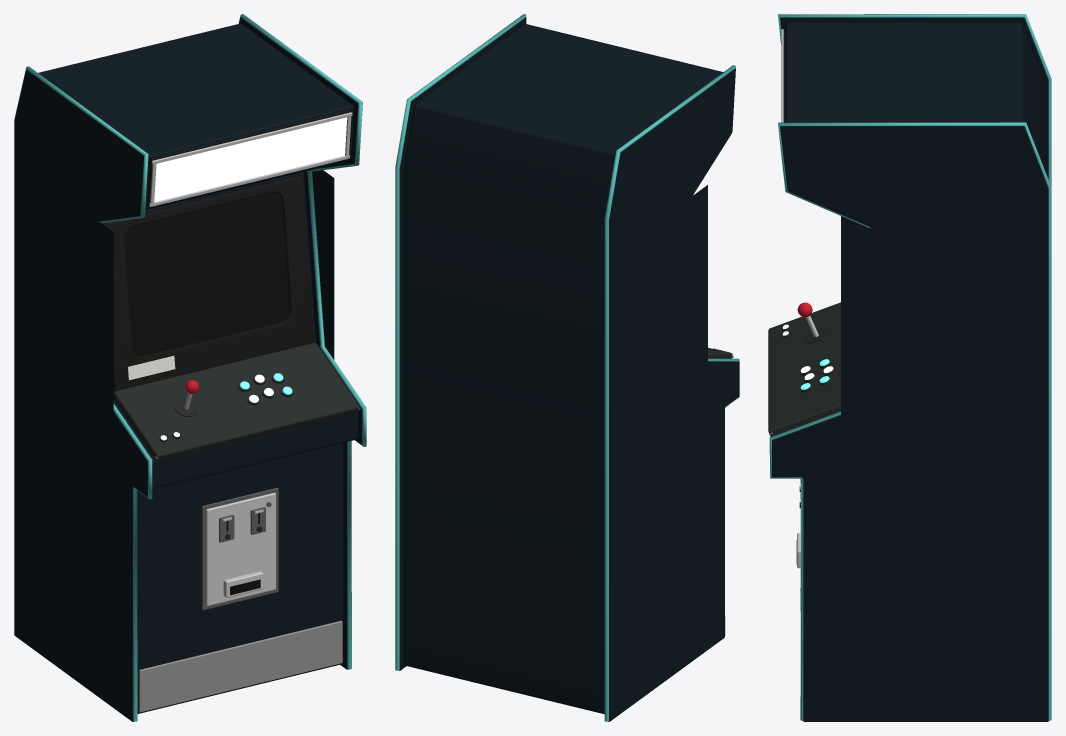
Rendered from cabinet-proto.glb.
The picture shows the model from 3 angles, left to right: view 1: azimuth 30°, elevation 25°; view 2: azimuth 150°, elevation 25°; view 3: azimuth 270°, elevation 25°; orthographic projection. The views are drawn at different scales.
Visible parts, largest first — view 1: body, controls, side_art_l, screen, metal, coin, marquee, trim, side_art_r; view 2: body, side_art_l, trim; view 3: body, side_art_r, controls, trim.
Boxes of the visible parts, x1,y1,x2,y2 form: body: (14, 17, 362, 721); controls: (103, 110, 359, 461); side_art_l: (30, 171, 113, 536); screen: (124, 192, 289, 356); metal: (139, 112, 360, 712); coin: (202, 487, 278, 610); marquee: (154, 117, 347, 201); trim: (14, 14, 366, 721); side_art_r: (312, 170, 334, 359); body: (399, 17, 739, 721); side_art_l: (626, 185, 707, 541); trim: (395, 14, 739, 721); body: (772, 17, 1048, 721); side_art_r: (841, 227, 1014, 543); controls: (768, 27, 840, 436); trim: (769, 14, 1051, 720).
Size of the model in its own units: 0.763 by 1.91 by 0.8173.
13 materials, 9 textured.
